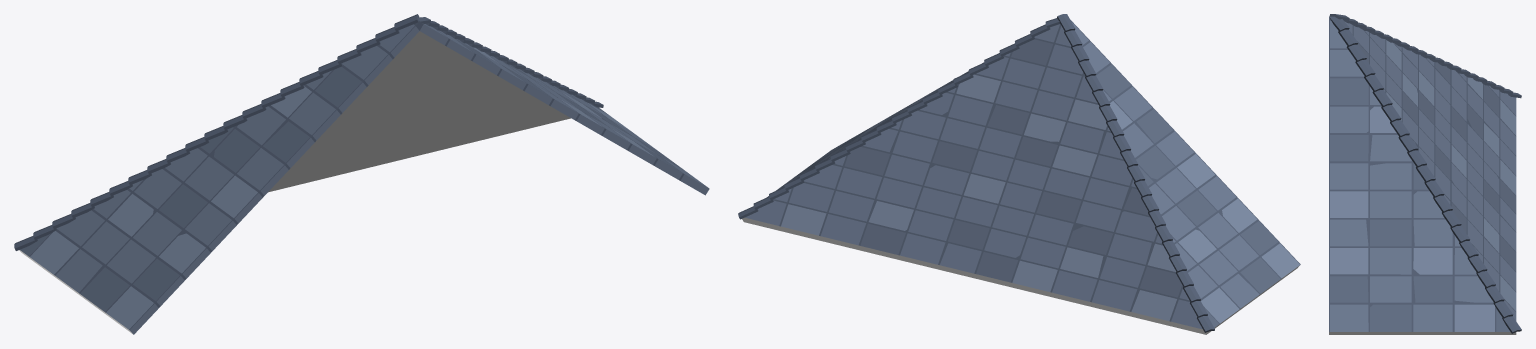
File: Roof2_C7_02.fbx
3 views of the same model, side by side, from view 1: azimuth 30°, elevation 25°; view 2: azimuth 150°, elevation 25°; view 3: azimuth 270°, elevation 25° (orthographic). The views are drawn at different scales.
Parts seen in each view (by area): view 1: Roof2_C7_02; view 2: Roof2_C7_02; view 3: Roof2_C7_02.
Boxes of the visible parts, bbox=[...] form: Roof2_C7_02: bbox=[14, 14, 709, 334]; Roof2_C7_02: bbox=[738, 14, 1300, 334]; Roof2_C7_02: bbox=[1329, 14, 1521, 334].
Bounding box in the file's own units: 846 × 339 × 289.
